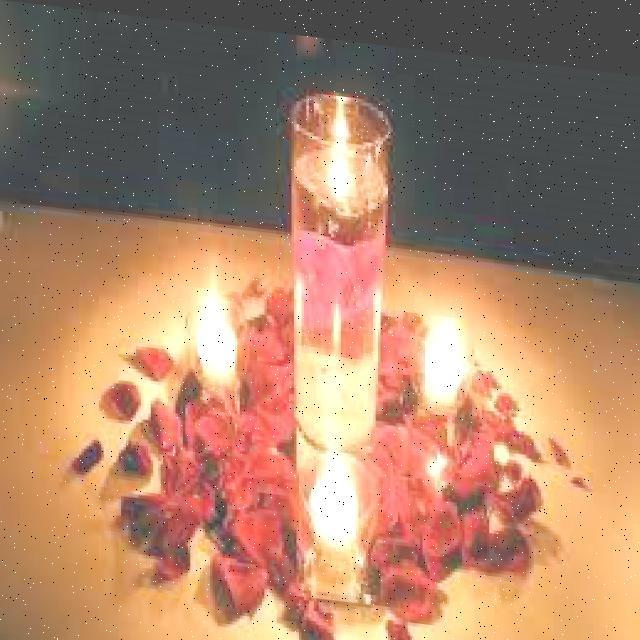Fire: (185, 268, 242, 382), (412, 292, 468, 380), (306, 432, 364, 509), (311, 105, 356, 182)
